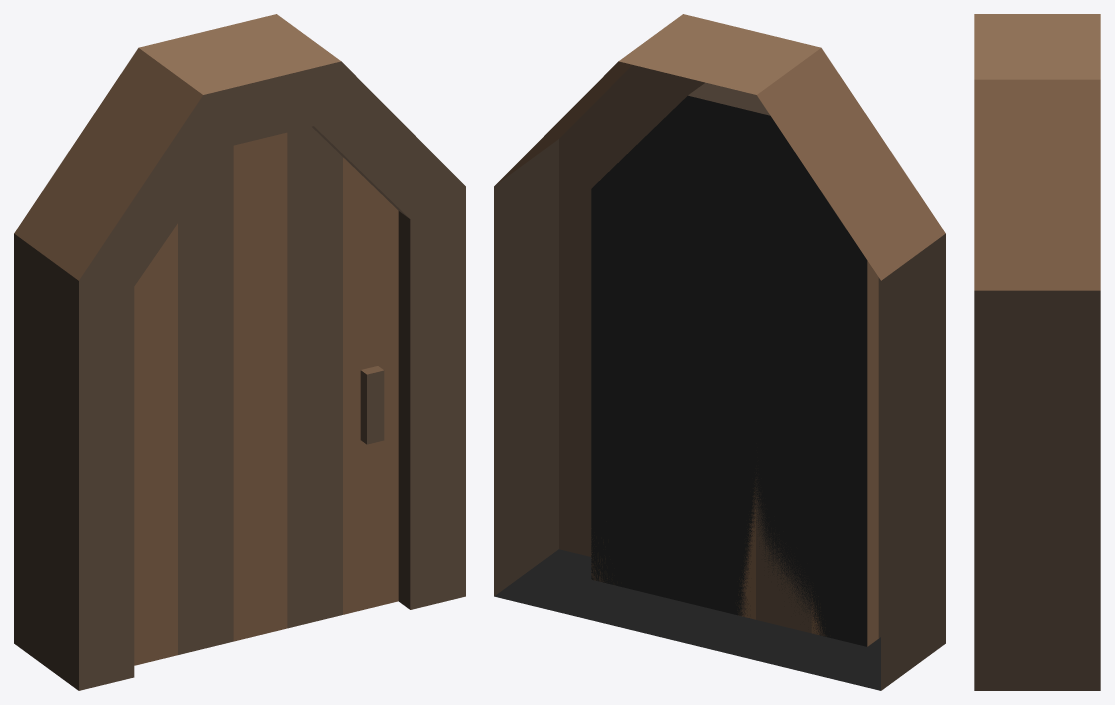
Rendered from TB_D_Bd_Arch_DoorSet_A.FBX.
The picture shows the model from 3 angles, left to right: view 1: azimuth 30°, elevation 25°; view 2: azimuth 150°, elevation 25°; view 3: azimuth 270°, elevation 25°; orthographic projection. The views are drawn at different scales.
Parts seen in each view (by area): view 1: TB_D_Bd_Arch_DoorSet_A, TB_D_Bd_Arch_Door_A; view 2: TB_D_Bd_Arch_DoorSet_A, TB_D_Bd_Arch_Door_A; view 3: TB_D_Bd_Arch_DoorSet_A.
Boxes of the visible parts, x1=… form: TB_D_Bd_Arch_DoorSet_A: x1=14, y1=14, x2=465, y2=690; TB_D_Bd_Arch_Door_A: x1=134, y1=126, x2=398, y2=665; TB_D_Bd_Arch_DoorSet_A: x1=494, y1=14, x2=945, y2=690; TB_D_Bd_Arch_Door_A: x1=591, y1=96, x2=878, y2=646; TB_D_Bd_Arch_DoorSet_A: x1=974, y1=14, x2=1100, y2=690.
Size of the model in its own units: 1.4 by 1.95 by 0.4047.
